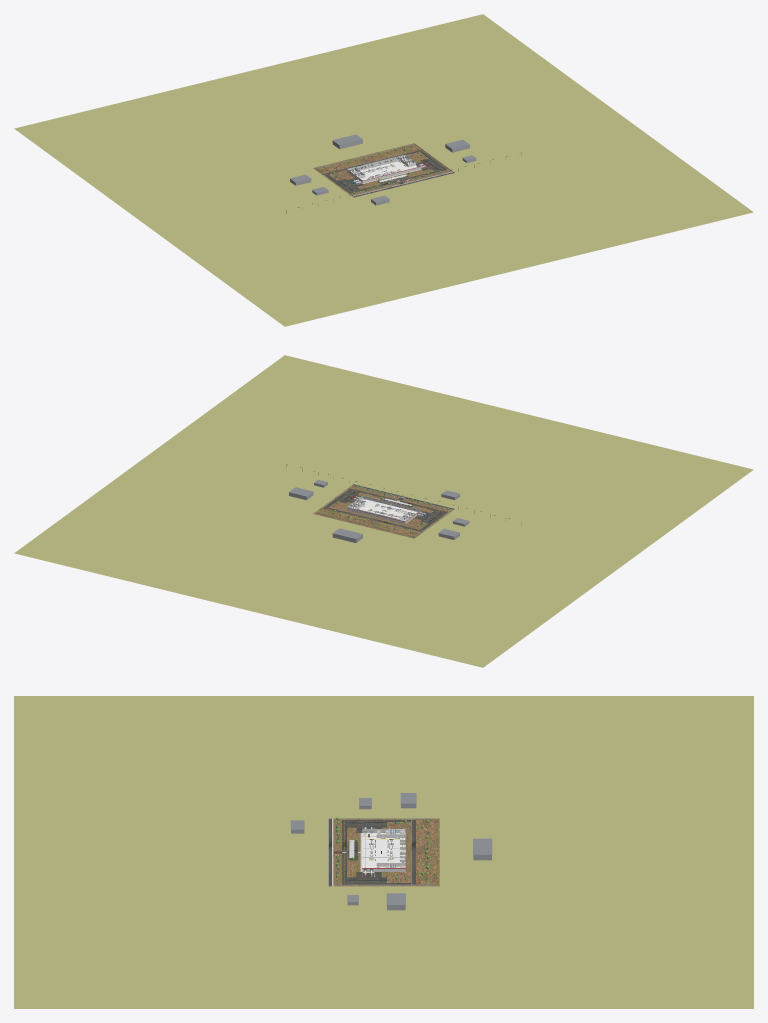
File: PATY_Planta_v5.glb
3 views of the same model, one above another, from view 1: azimuth 30°, elevation 25°; view 2: azimuth 150°, elevation 25°; view 3: azimuth 270°, elevation 25° (orthographic). The views are drawn at different scales.
Visible parts, largest first — view 1: PATY_Planta_Visual; view 2: PATY_Planta_Visual; view 3: PATY_Planta_Visual.
Part boxes in pixels (x1,y1,x2,y2): PATY_Planta_Visual: (14,14,753,326); PATY_Planta_Visual: (14,355,753,667); PATY_Planta_Visual: (14,696,753,1008).
Bounding box in the file's own units: 1200 × 11.7 × 1200.
Materials: 72 (2 with a texture image).
